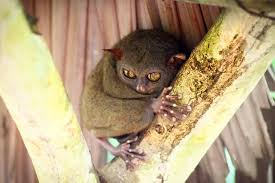tarsier: (80, 27, 186, 155)
